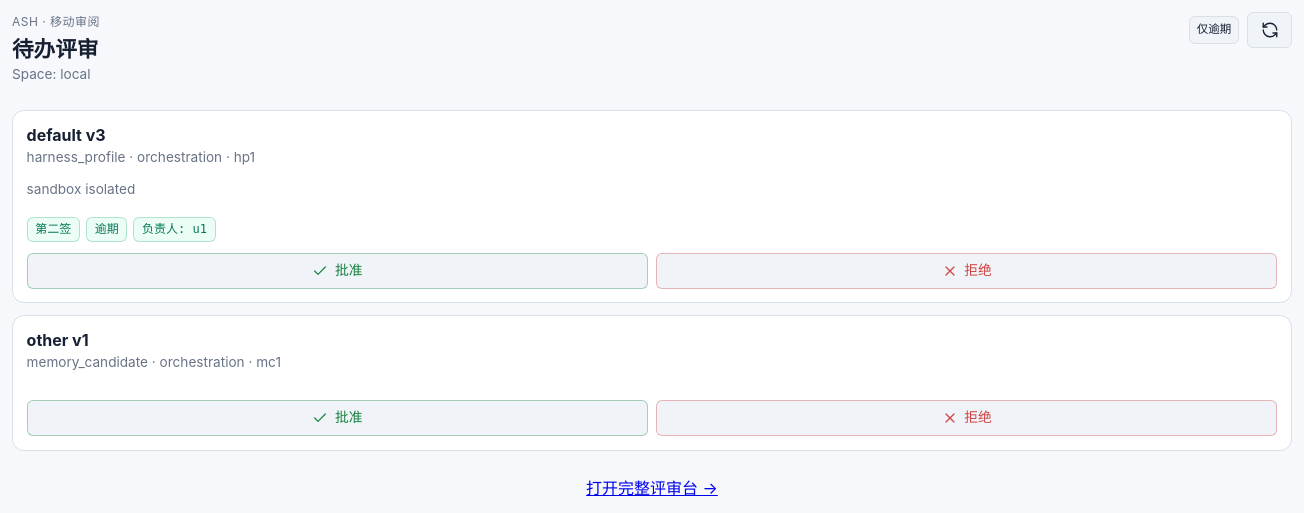
Test: MobileReviewsPage › shows pending_second, sla, and assignee badges plus overdue filter
Expected: the text with test id "mobile-review-pending-second" reads "第二签", [35,222,71,236]
Expected: the text with test id "mobile-review-sla-breach" reads "逾期", [95,222,119,236]
Click the button with test id "mobile-reviews-filter-overdue" at (1214, 30), box [1189,16,1239,44]
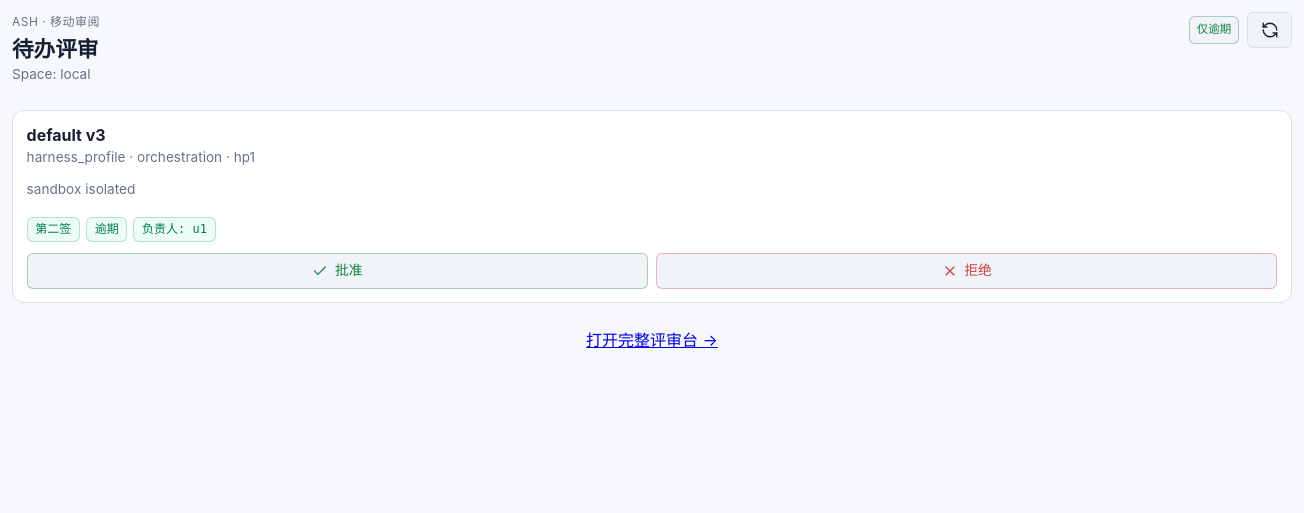
Expected: the text "default v3" is shown, [27,125,106,145]
Expected: the button "other v1" is gone
